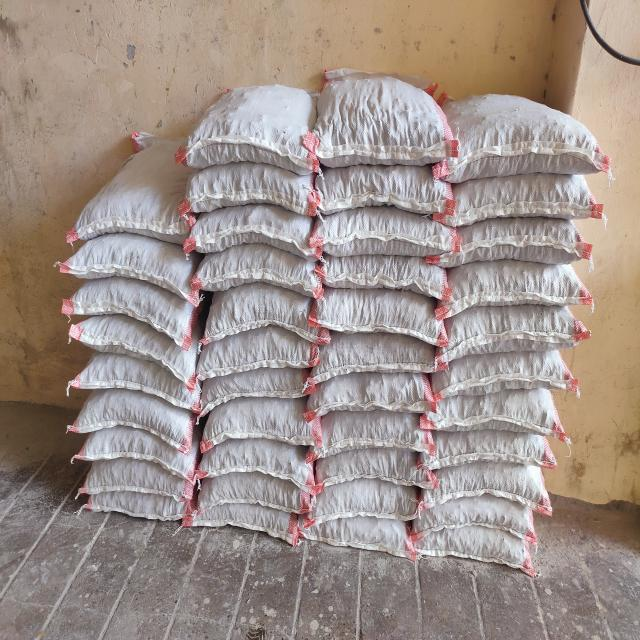Gravel: (459, 99, 597, 172), (200, 81, 311, 167), (322, 79, 433, 165), (75, 159, 183, 226), (456, 173, 576, 224), (457, 210, 577, 261), (452, 251, 572, 302), (446, 299, 566, 350), (439, 345, 559, 396), (426, 378, 546, 429), (424, 413, 544, 464), (431, 448, 551, 499), (413, 488, 533, 539), (412, 511, 532, 562), (326, 254, 444, 291), (325, 215, 444, 249), (323, 168, 442, 202), (190, 169, 309, 203), (193, 213, 312, 247), (197, 248, 316, 282), (197, 285, 316, 319), (196, 327, 315, 361), (196, 364, 315, 398), (199, 402, 318, 436), (193, 442, 312, 476), (196, 464, 315, 498), (181, 495, 300, 529), (74, 486, 193, 520), (72, 457, 191, 491), (72, 428, 191, 462), (73, 392, 192, 426), (69, 359, 188, 393), (69, 320, 188, 354), (74, 283, 193, 317), (77, 239, 196, 273), (314, 518, 414, 550), (314, 477, 414, 509), (322, 444, 422, 476), (320, 412, 420, 444), (320, 376, 420, 408), (323, 338, 423, 370), (332, 296, 432, 328)
